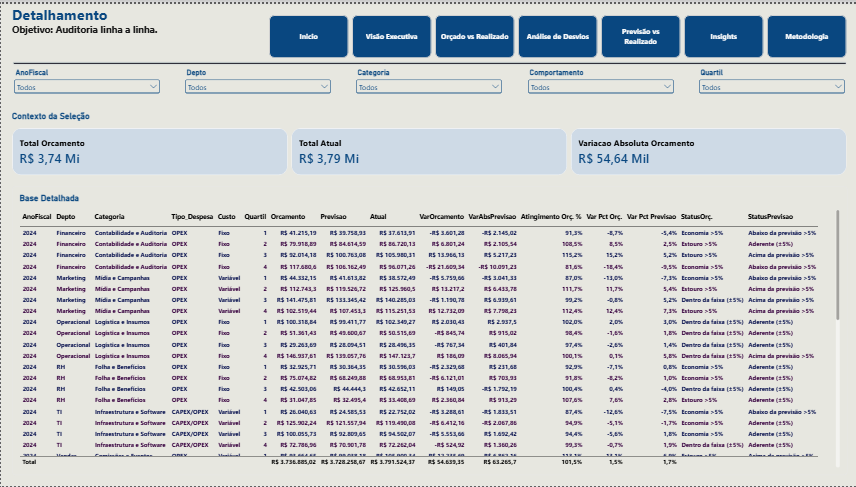

The page's visual inventory and layout, read from the dashboard file:
{"tool":"powerbi","page":{"name":"Detalhamento","canvas":[1920,1080],"ordinal":5},"visuals":[{"type":"textbox","box":[24,0,552,120],"z":0},{"type":"pageNavigator","title":"Áreas de Análise:","box":[600,24,1296,96],"z":1000},{"type":"shape","box":[24,120,1872,24],"z":2000},{"type":"slicer","fields":{"Values":["FatoOrcamento.AnoFiscal"]},"box":[24,144,336,72],"z":3000},{"type":"slicer","fields":{"Values":["FatoOrcamento.Quartil"]},"box":[1560,144,336,72],"z":4000},{"type":"slicer","fields":{"Values":["FatoOrcamento.Depto"]},"box":[408,144,336,72],"z":5000},{"type":"slicer","fields":{"Values":["FatoOrcamento.Comportamento"]},"box":[1176,144,336,72],"z":6000},{"type":"slicer","fields":{"Values":["FatoOrcamento.Categoria"]},"box":[792,144,336,72],"z":7000},{"type":"cardVisual","title":"Contexto da Seleção","fields":{"Data":["Medidas.Total Orcamento","Medidas.Total Atual","Medidas.Variacao Absoluta Orcamento"]},"box":[24,240,1872,144],"z":7001},{"type":"tableEx","title":"Base Detalhada","fields":{"Values":["FatoOrcamento.AnoFiscal","FatoOrcamento.Depto","FatoOrcamento.Categoria","FatoOrcamento.Tipo_Despesa","FatoOrcamento.Comportamento","FatoOrcamento.Quartil","Sum(FatoOrcamento.Orcamento)","Sum(FatoOrcamento.Previsao)","Sum(FatoOrcamento.Atual)","Sum(FatoOrcamento.VarianciaOrcamento)","Medidas.Variacao Absoluta Previsao","Medidas.Atingimento Orcamento %"]},"box":[24,408,1872,648],"z":7002}]}

Visuals, with their boxes in screenshot pixels (x1, y1, x2, y2), scaled from the page's 1920x1080 canvas onto the 856x487 screenshot:
textbox: box=[11, 0, 257, 54]
"Áreas de Análise:" pageNavigator: box=[268, 11, 845, 54]
shape: box=[11, 54, 845, 65]
slicer - FatoOrcamento.AnoFiscal: box=[11, 65, 160, 97]
slicer - FatoOrcamento.Quartil: box=[696, 65, 845, 97]
slicer - FatoOrcamento.Depto: box=[182, 65, 332, 97]
slicer - FatoOrcamento.Comportamento: box=[524, 65, 674, 97]
slicer - FatoOrcamento.Categoria: box=[353, 65, 503, 97]
"Contexto da Seleção" cardVisual: box=[11, 108, 845, 173]
"Base Detalhada" tableEx: box=[11, 184, 845, 476]
